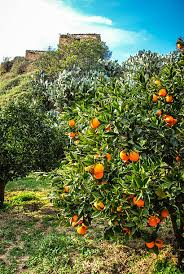orange: (94, 163, 104, 173)
